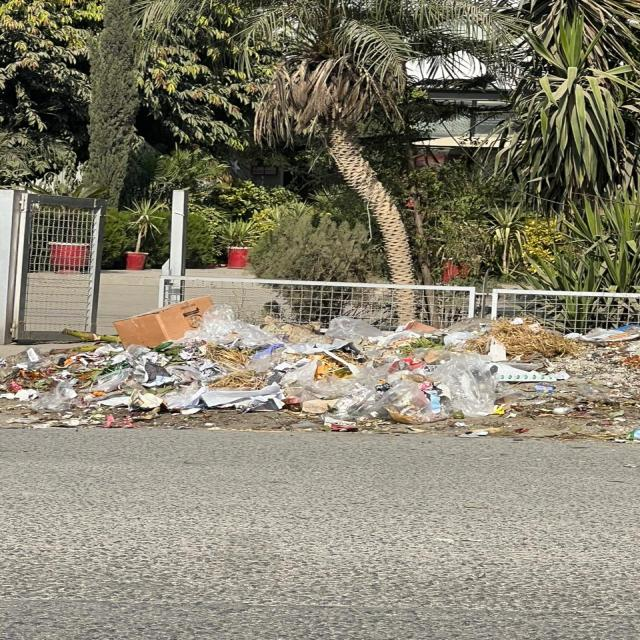garbage: (6, 313, 640, 458)
